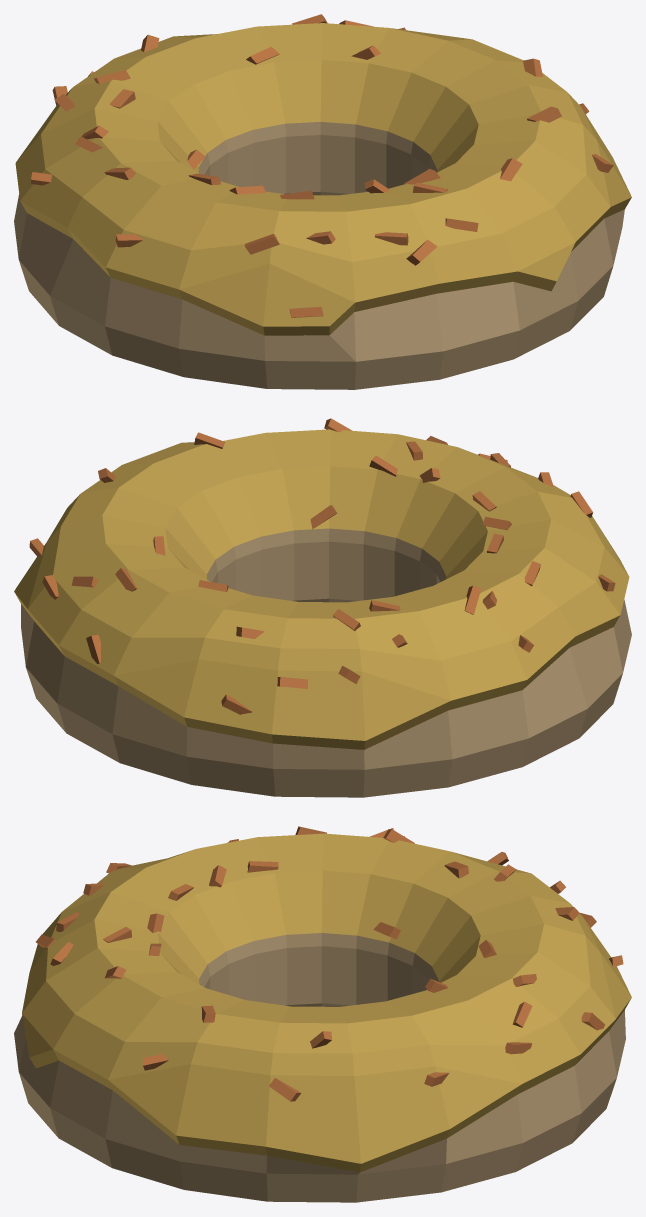
The model's file is Donut2.glb.
3 renders of one model, top to bottom at view 1: azimuth 30°, elevation 25°; view 2: azimuth 150°, elevation 25°; view 3: azimuth 270°, elevation 25°, orthographic.
Visible parts, largest first — view 1: Donut2; view 2: Donut2; view 3: Donut2.
Part boxes in pixels (left/top/right/bottom): Donut2: left=14, top=14, right=631, bottom=389; Donut2: left=14, top=418, right=631, bottom=797; Donut2: left=14, top=826, right=631, bottom=1202.
Size of the model in its own units: 0.8795 by 0.2914 by 0.8673.
